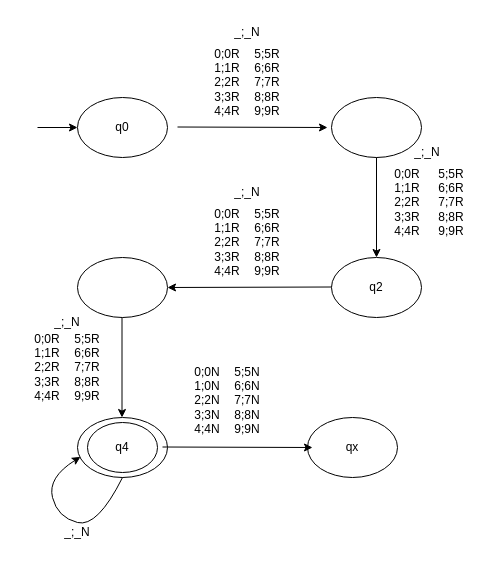
This 498x564 diagram has some shape labels left out. Here are the shapes that lost their labels. From the top down, the box of each, then its label:
(330, 96, 422, 158): q1
(76, 256, 168, 318): q3
